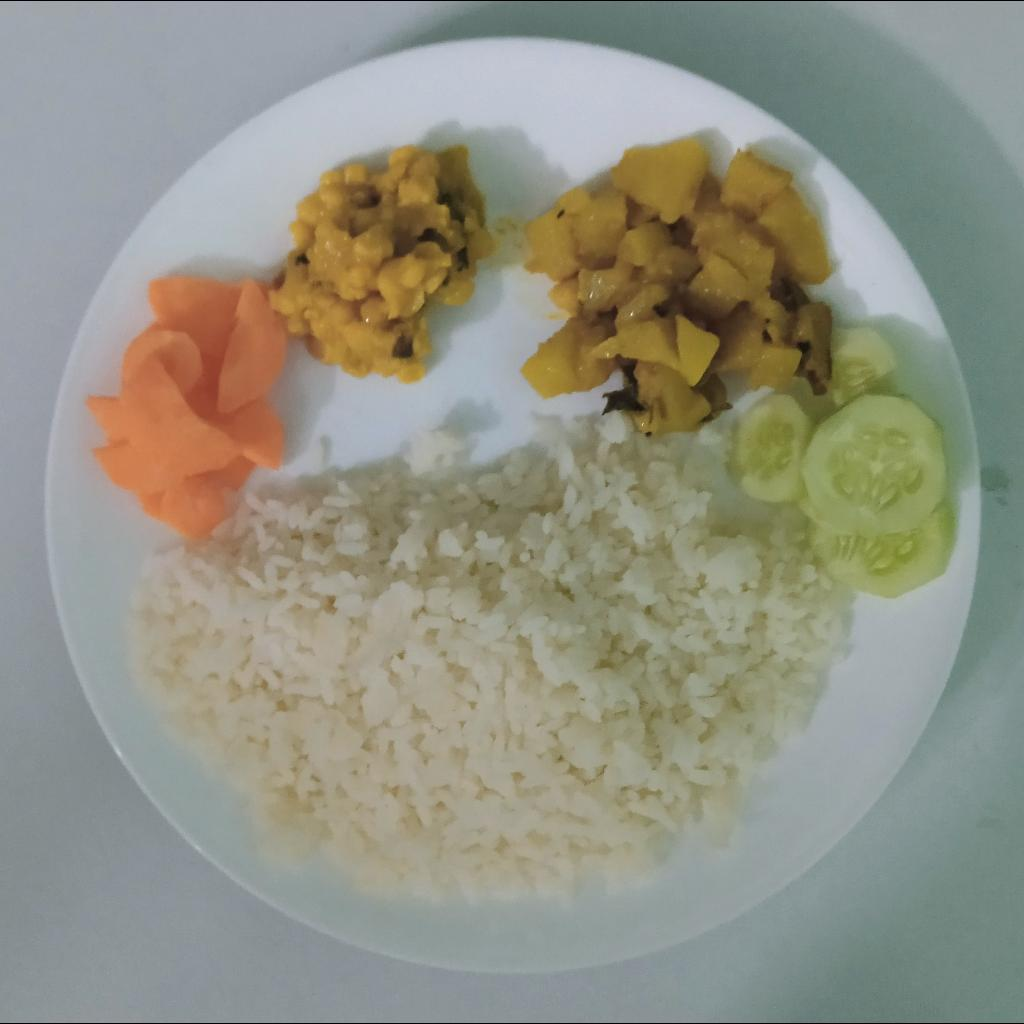cabbage: (520, 136, 835, 441)
carrot: (87, 276, 286, 541)
cucumber: (724, 326, 958, 602)
daal: (269, 143, 498, 384)
rice: (127, 412, 845, 901)
